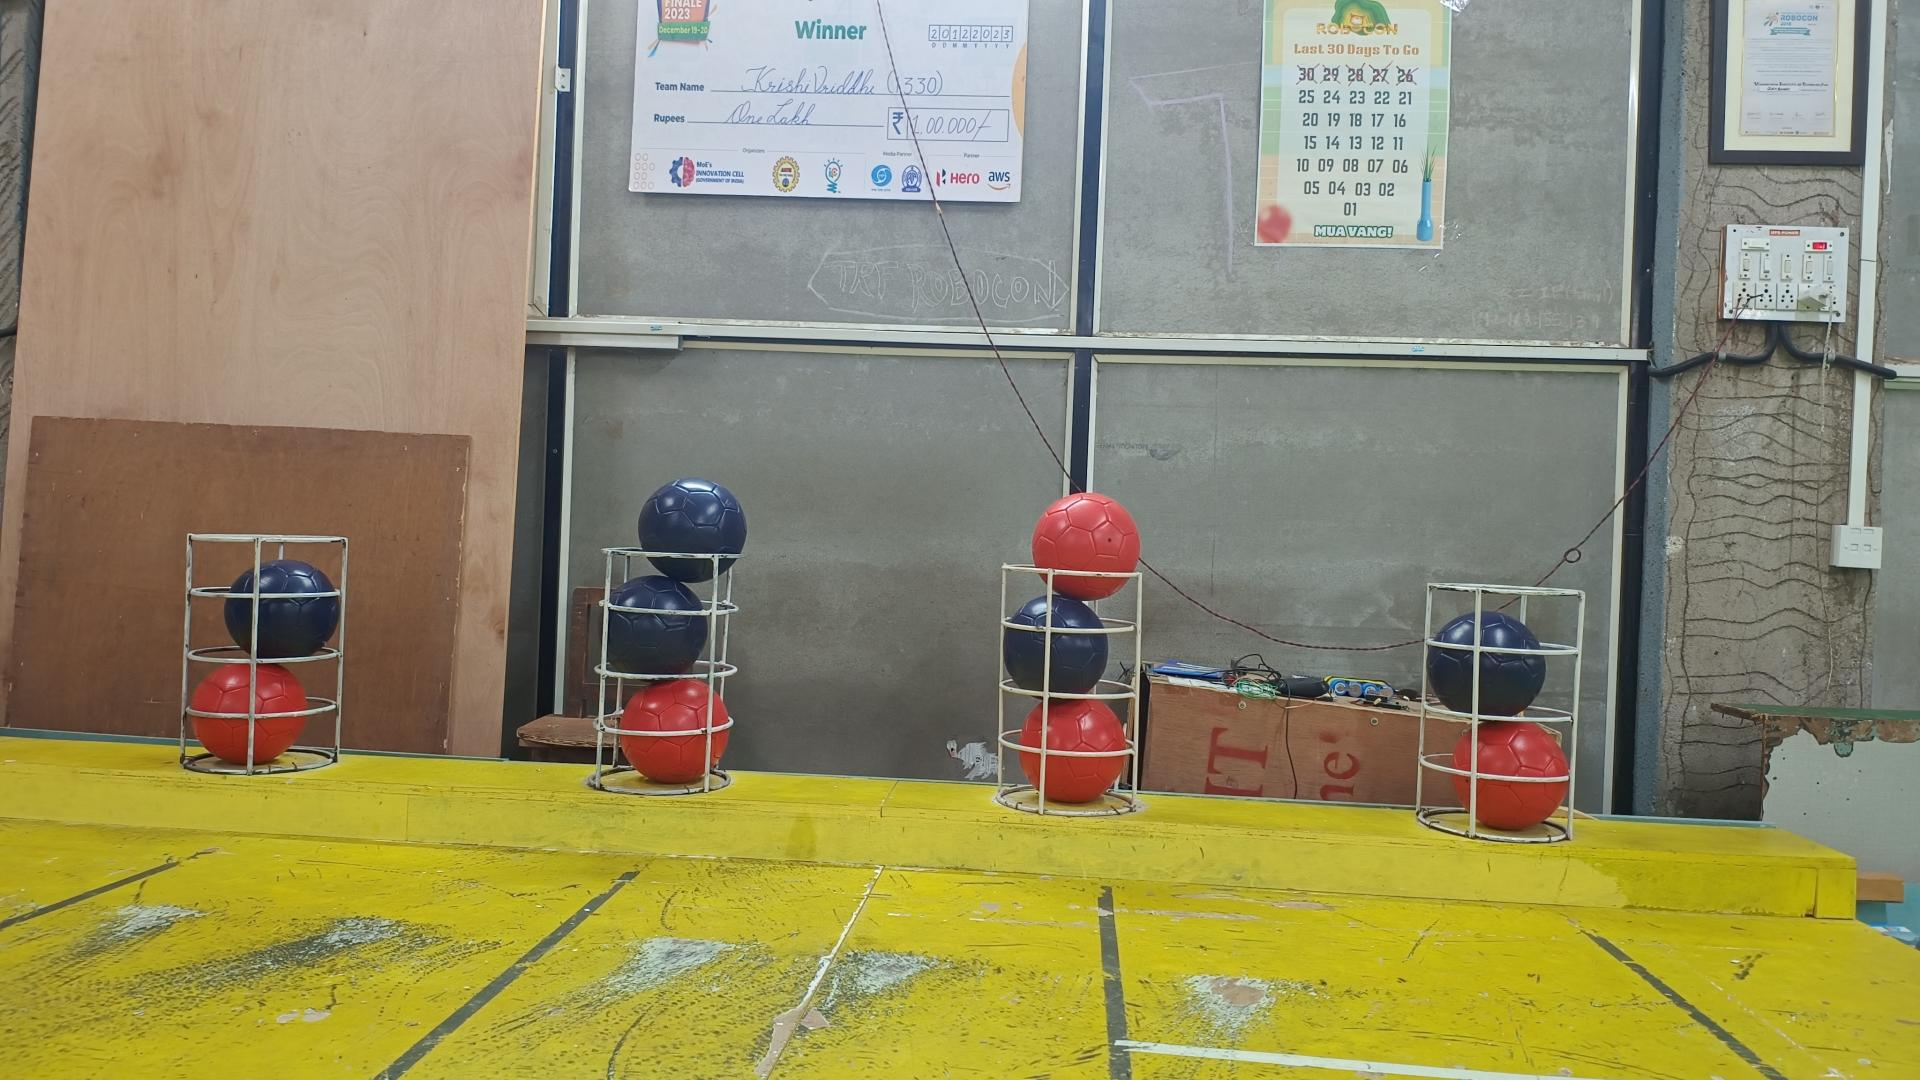dhoka: (1425, 612, 1545, 716), (637, 476, 746, 585), (225, 559, 342, 661), (1001, 592, 1110, 698), (596, 574, 708, 675)
laale: (1452, 720, 1572, 832), (187, 663, 307, 765), (618, 679, 732, 783), (1031, 492, 1139, 600), (1021, 698, 1129, 803)
